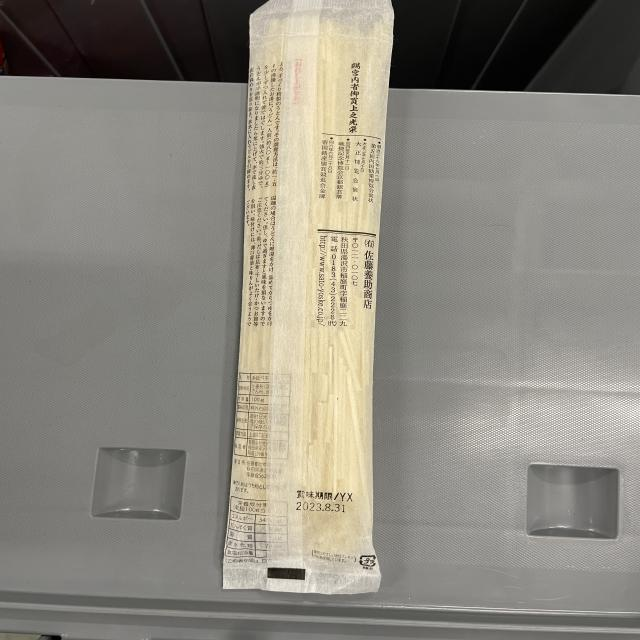object_name: (249, 8, 369, 591)
